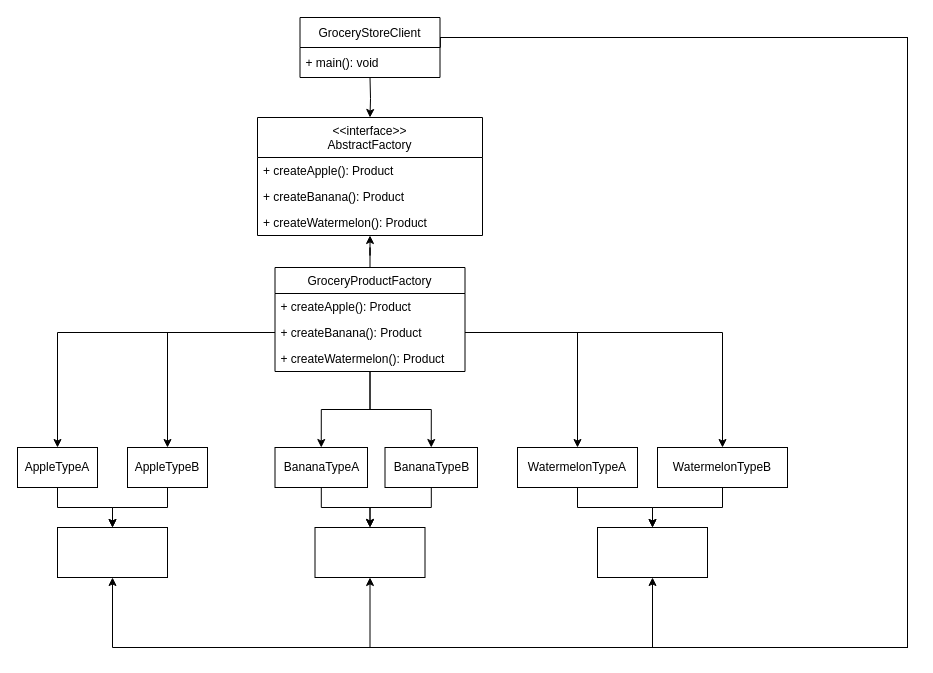
Image size: 933x673. Some labels were removed from this diagram. Each missing label, with the centre of its shape:
"«interface» Apple" goes at [112,552].
"«interface» Banana" goes at [369,552].
"«interface» Watermelon" goes at [652,552].
